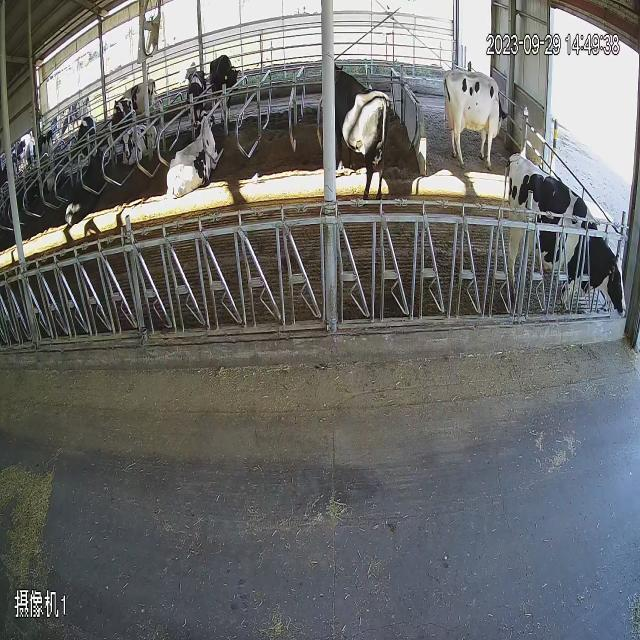lying down: (162, 111, 225, 200), (64, 142, 108, 241)
standing: (504, 148, 636, 332), (433, 61, 506, 166), (210, 50, 240, 126)
